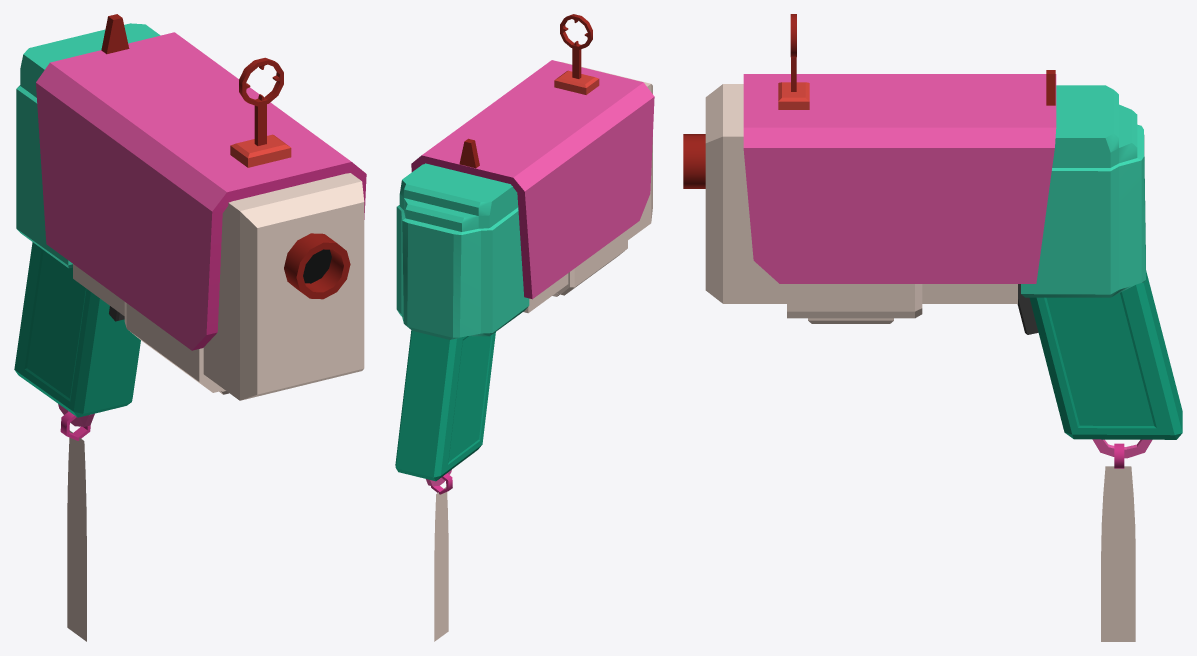
File: gun.FBX
3 views of the same model, side by side, from view 1: azimuth 30°, elevation 25°; view 2: azimuth 150°, elevation 25°; view 3: azimuth 270°, elevation 25° (orthographic). The views are drawn at different scales.
Parts seen in each view (by area): view 1: dessus002; view 2: dessus002; view 3: dessus002.
Part boxes in pixels (box(x1,y1,x2,y2)): dessus002: box(14, 14, 366, 641); dessus002: box(395, 14, 654, 641); dessus002: box(683, 14, 1182, 641).
Size of the model in its own units: 30.43 by 134 by 96.54.
1 material, 1 textured.
